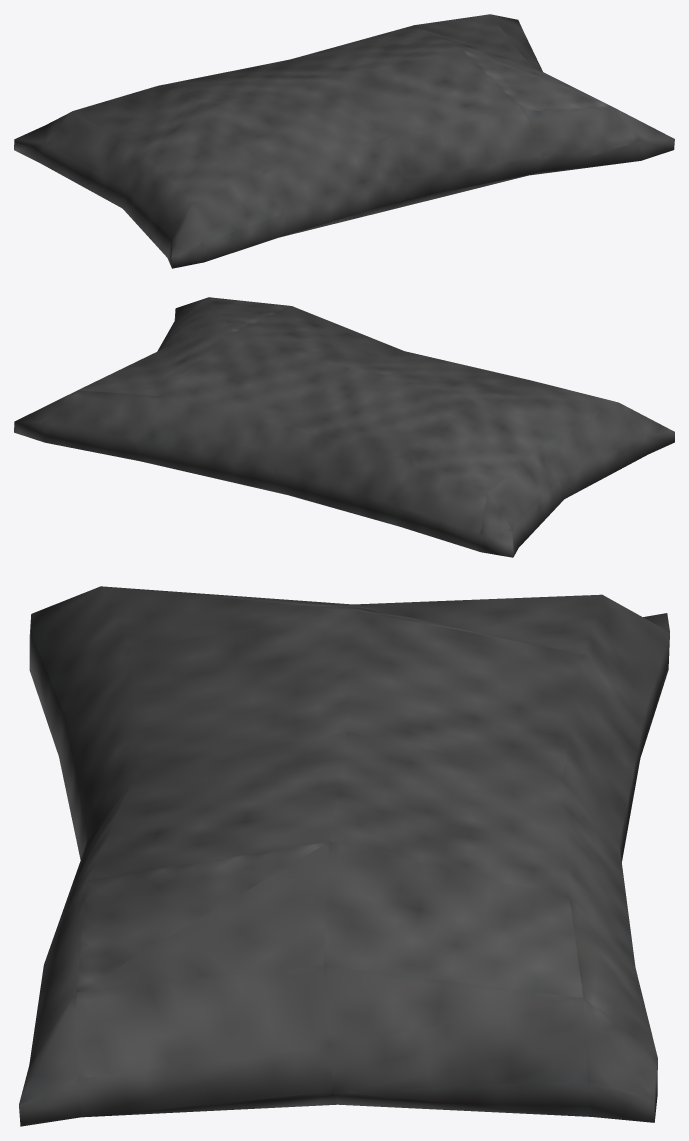
File: DOUBLE BED_PILLOw 1 .fbx
3 renders of one model, top to bottom at view 1: azimuth 30°, elevation 25°; view 2: azimuth 150°, elevation 25°; view 3: azimuth 270°, elevation 25°, orthographic. The views are drawn at different scales.
Parts seen in each view (by area): view 1: double_bed_pillow_1; view 2: double_bed_pillow_1; view 3: double_bed_pillow_1.
Boxes of the visible parts, x1=… form: double_bed_pillow_1: x1=14, y1=14, x2=674, y2=268; double_bed_pillow_1: x1=14, y1=297, x2=674, y2=557; double_bed_pillow_1: x1=19, y1=586, x2=669, y2=1126.
Bounding box in the file's own units: 0.7847 × 0.1487 × 0.4404.
